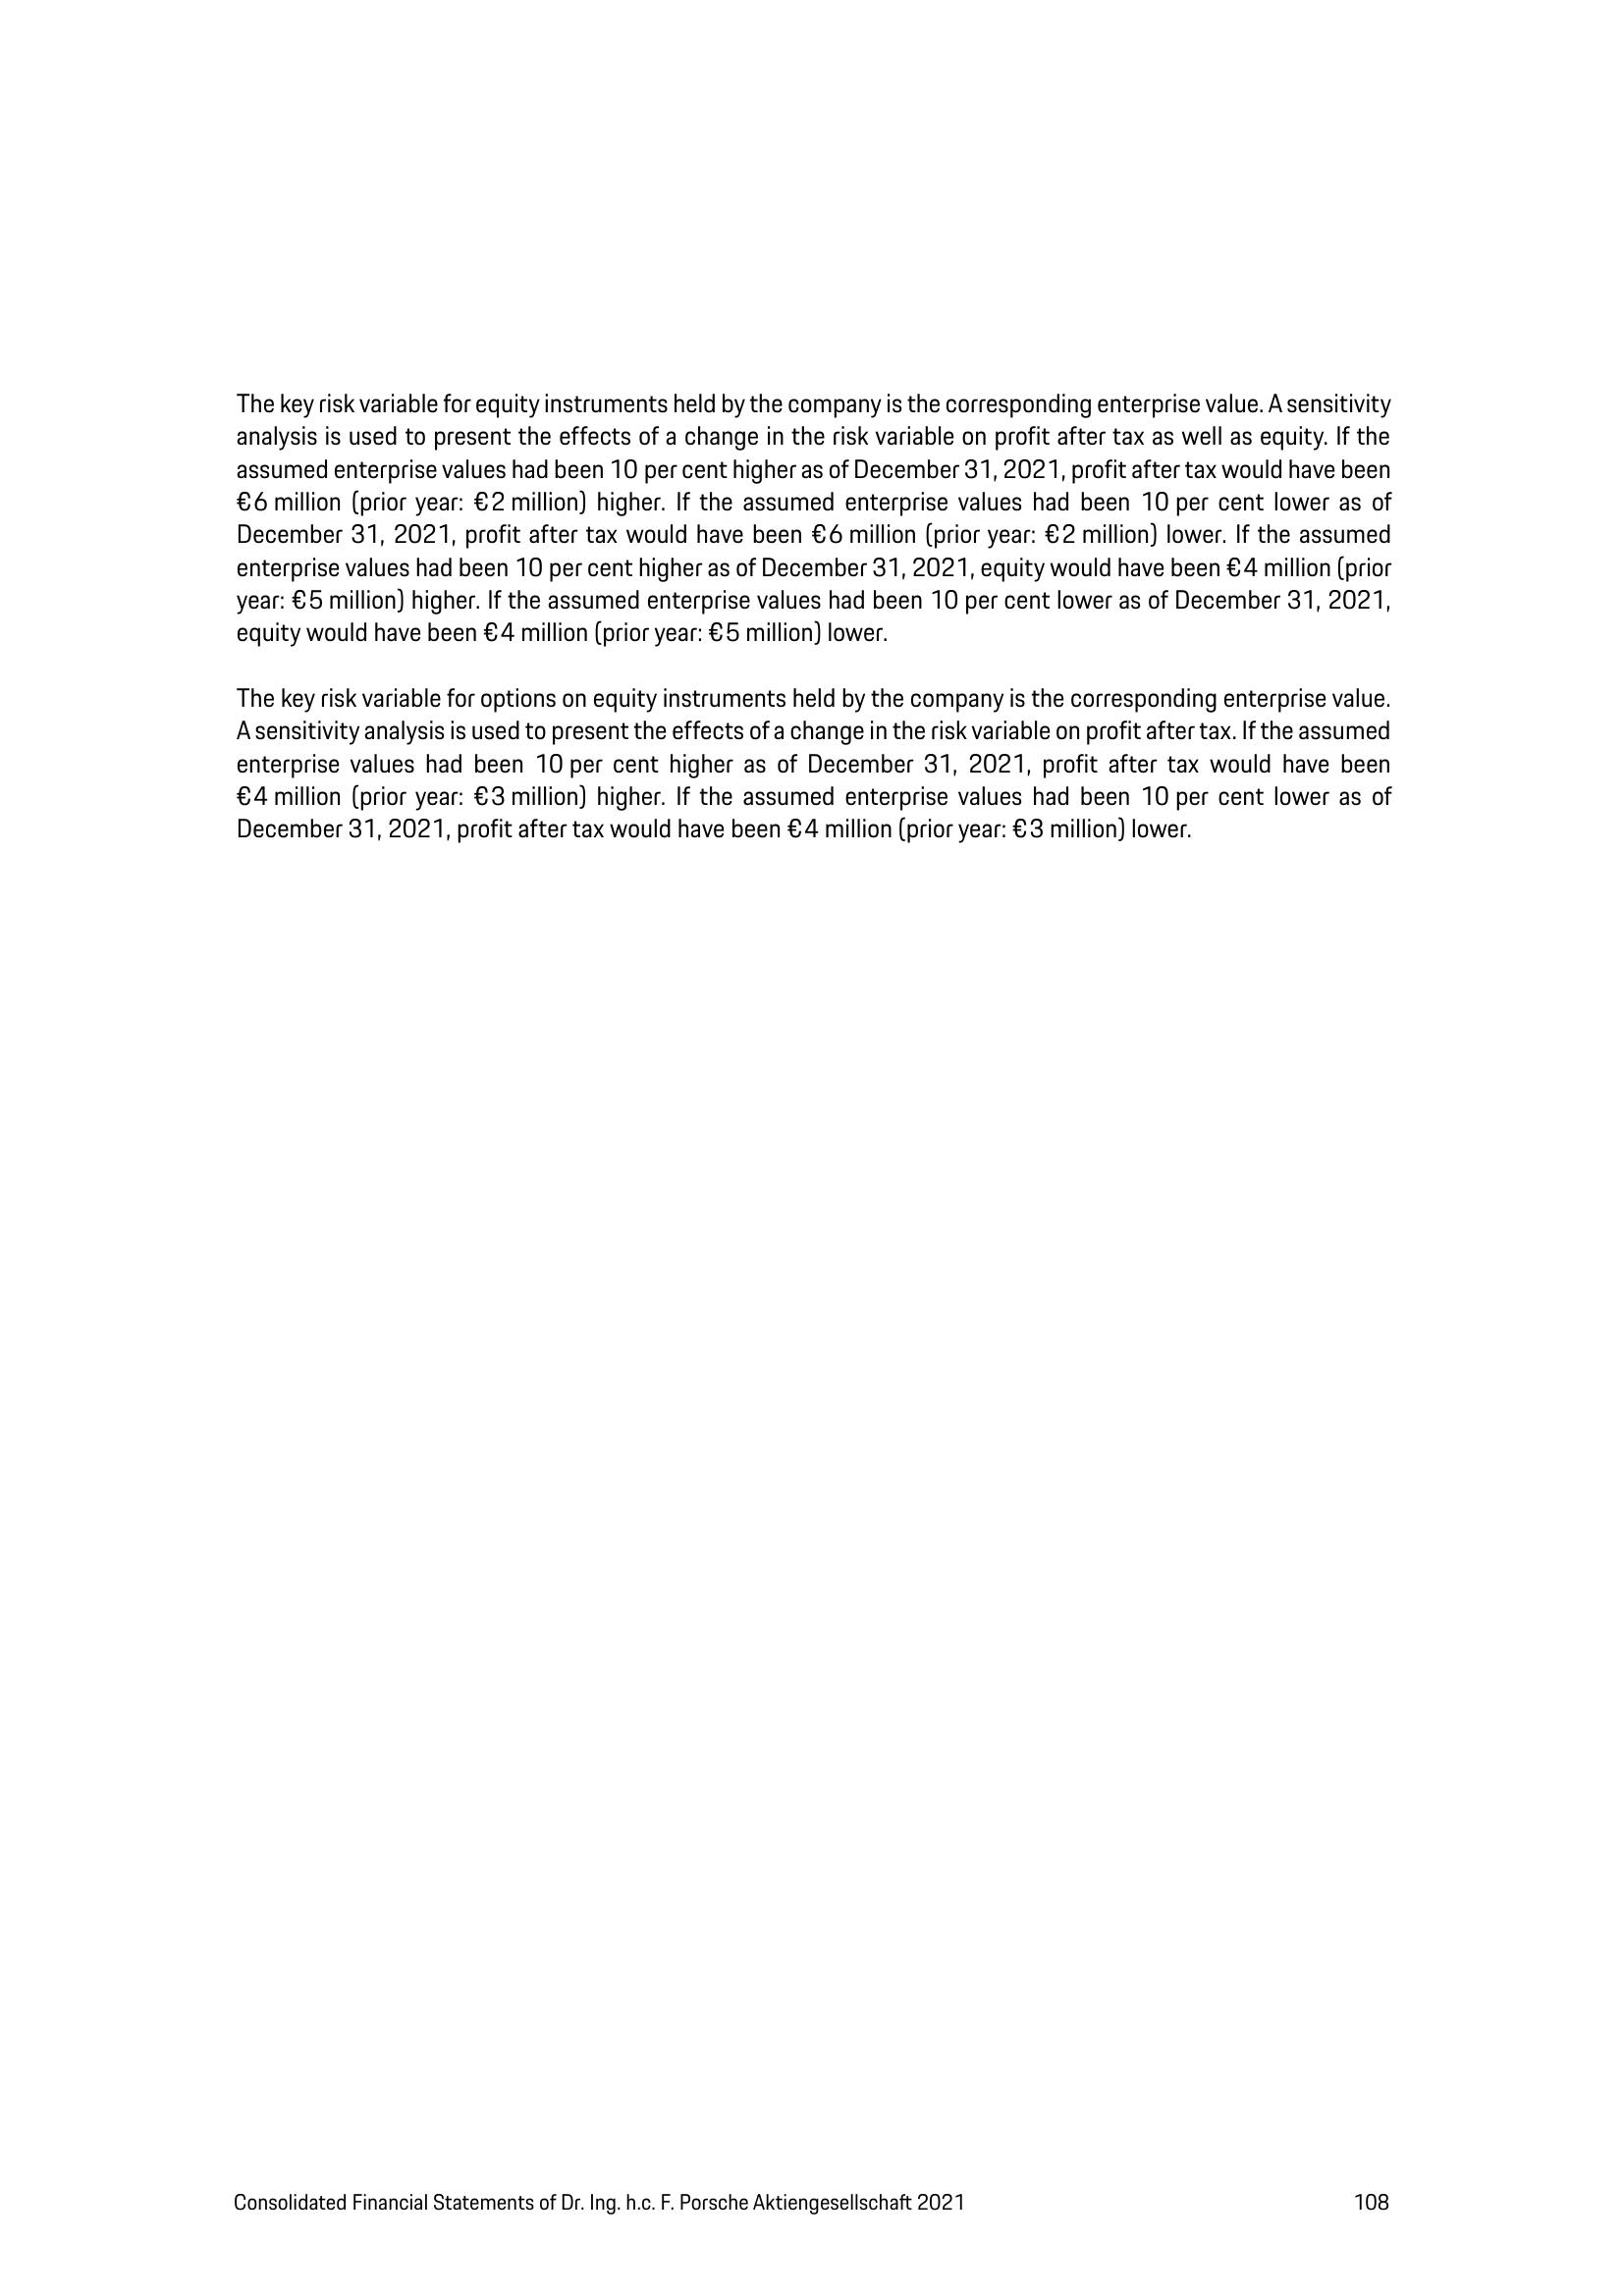Footer: (0, 2148, 1624, 2296)
Header: (0, 0, 1624, 228)
